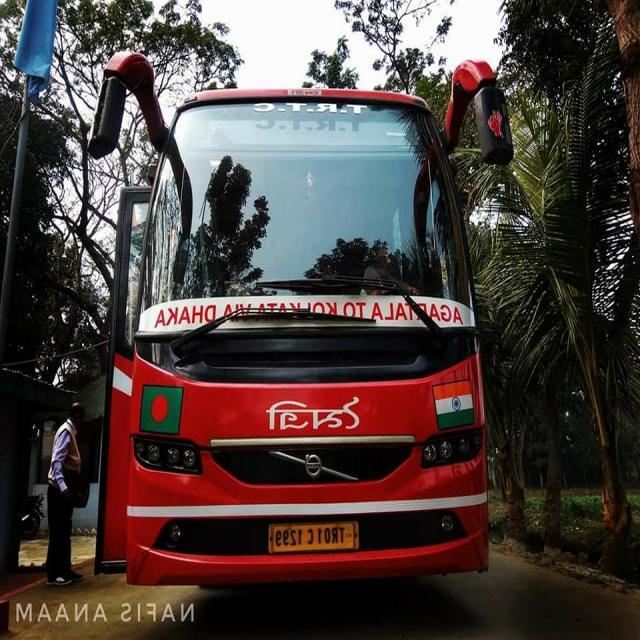Bus: (53, 28, 536, 609)
